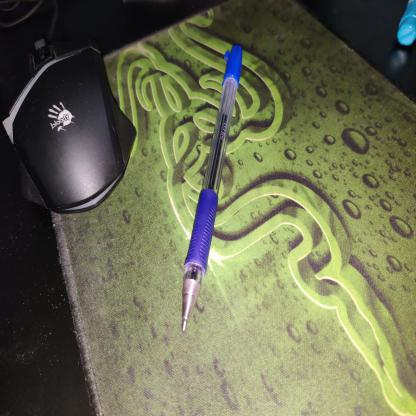pen: (148, 20, 286, 356)
